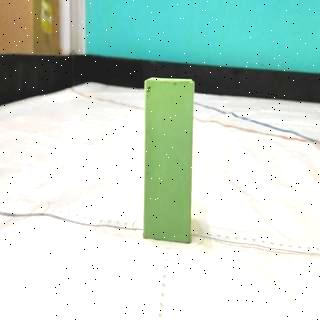greenbox: (142, 77, 192, 245)
